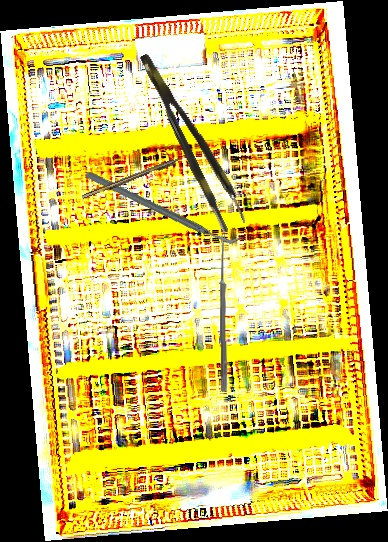Chopper: (83, 123, 244, 292)
Hook Surgical: (81, 153, 191, 200)
Surgical Spoon: (218, 233, 229, 392)
Tissue Forceps: (136, 45, 250, 234)
